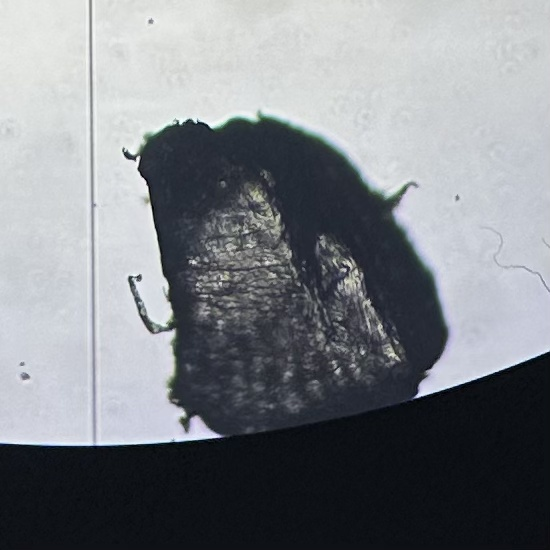microplastic: (122, 110, 451, 440)
